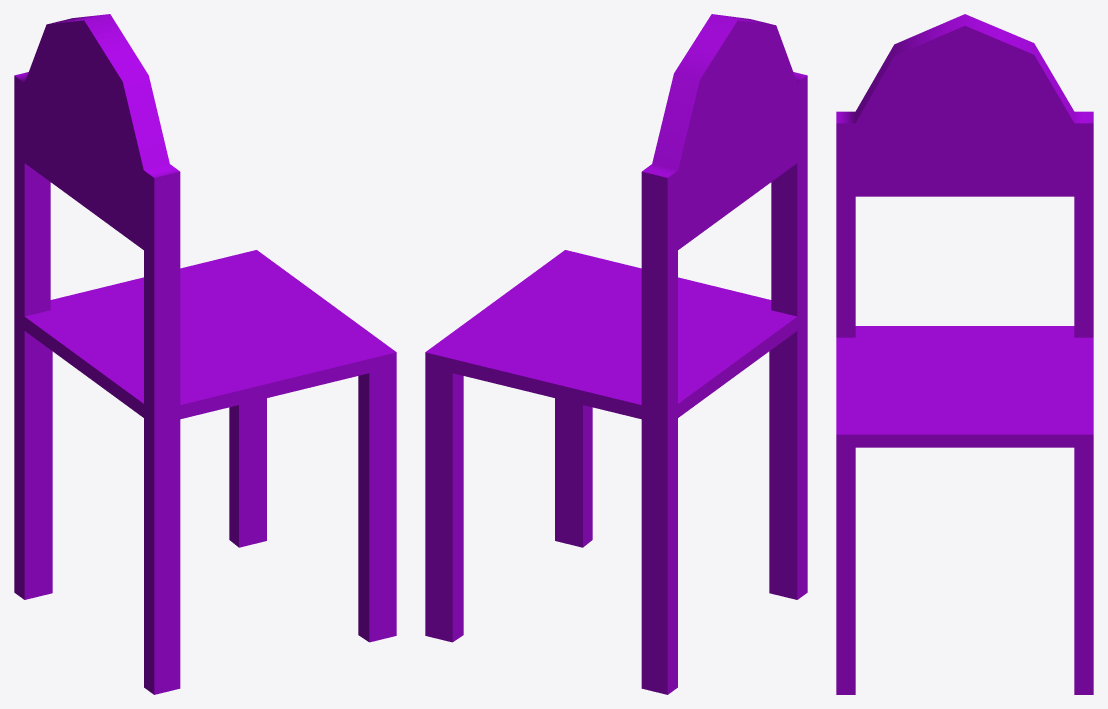
File: sm_chair2_low.fbx
The picture shows the model from 3 angles, left to right: view 1: azimuth 30°, elevation 25°; view 2: azimuth 150°, elevation 25°; view 3: azimuth 270°, elevation 25°; orthographic projection. The views are drawn at different scales.
Visible parts, largest first — view 1: pCube7; view 2: pCube7; view 3: pCube7.
Boxes of the visible parts, x1,y1,x2,y2 form: pCube7: (14, 14, 396, 694); pCube7: (425, 14, 807, 694); pCube7: (836, 14, 1093, 694).
Bounding box in the file's own units: 162 × 398 × 162.
